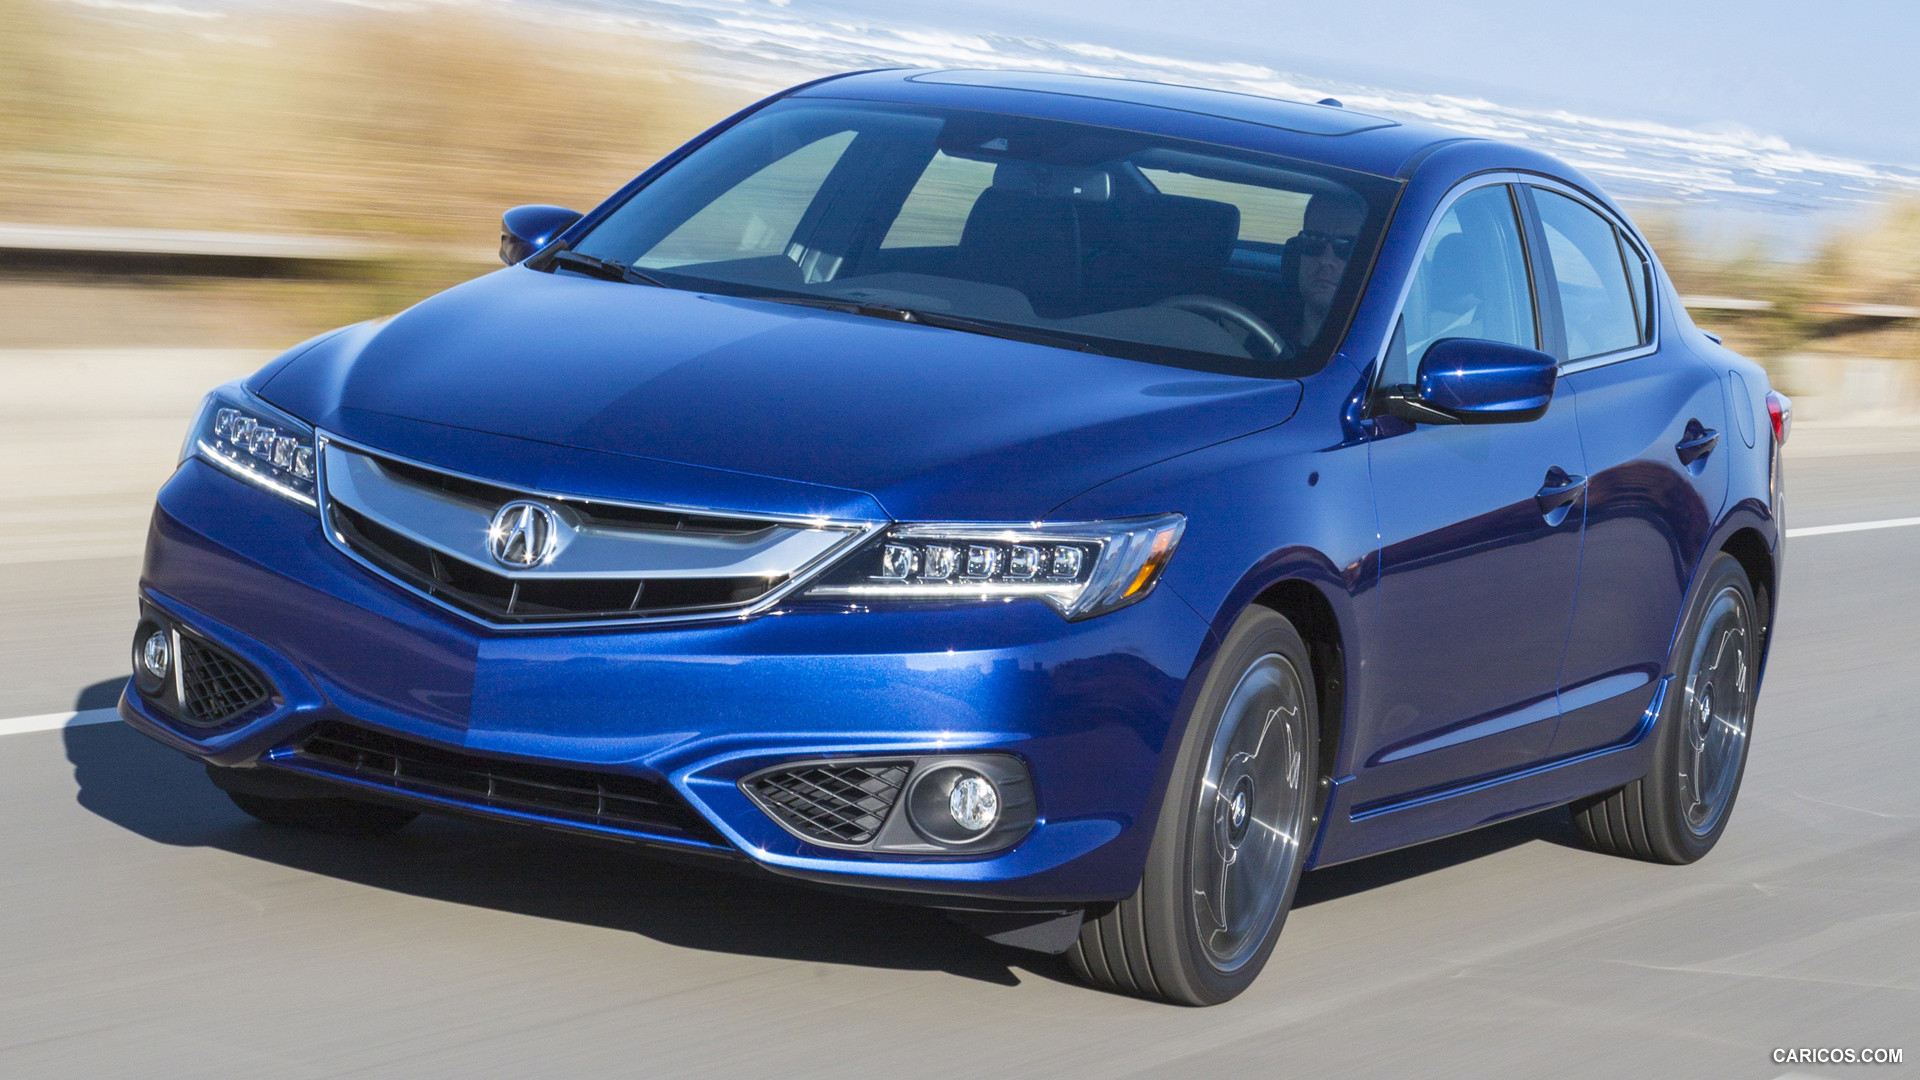Fog Lamp & Scope: (724, 738, 1052, 862)
Front: (119, 261, 1294, 945)
Front Bumper: (111, 506, 1211, 910)
Grill: (310, 423, 884, 640)
Headlight: (773, 505, 1200, 634)
